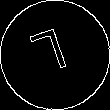L_S: (32, 26, 78, 84)
